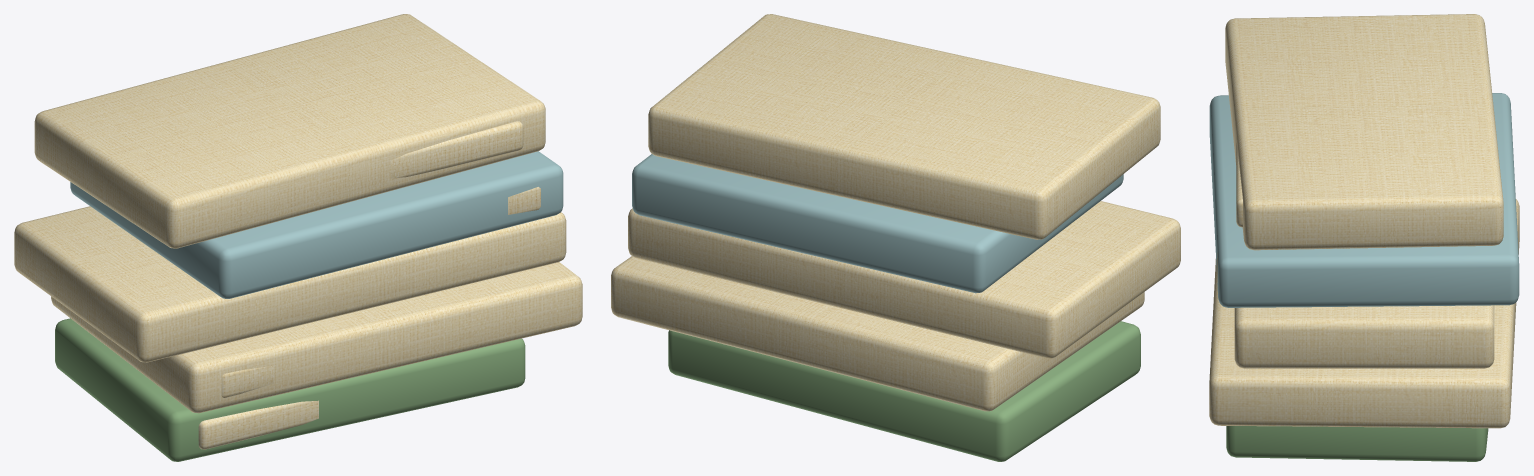
File: books-stacked.glb
3 views of the same model, side by side, from view 1: azimuth 30°, elevation 25°; view 2: azimuth 150°, elevation 25°; view 3: azimuth 270°, elevation 25° (orthographic).
Parts seen in each view (by area): view 1: books-stacked; view 2: books-stacked; view 3: books-stacked.
Part boxes in pixels (left/top/right/bottom): books-stacked: left=14, top=14, right=582, bottom=461; books-stacked: left=611, top=14, right=1180, bottom=461; books-stacked: left=1209, top=14, right=1519, bottom=461.
Size of the model in its own units: 0.4118 by 0.245 by 0.254.
Materials: 5 (3 with a texture image).
